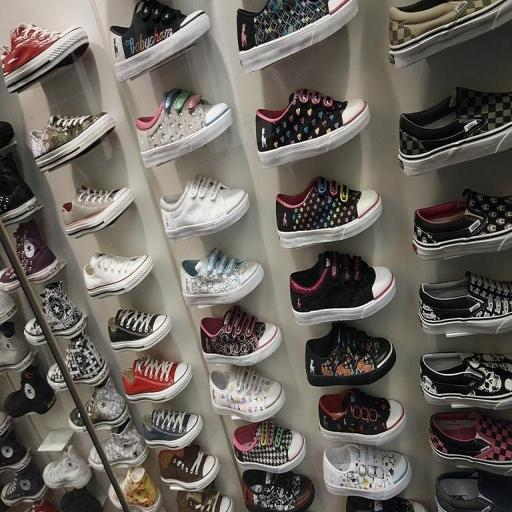shoe: (398, 87, 512, 175), (255, 89, 370, 167), (237, 0, 358, 72), (389, 0, 512, 68), (110, 0, 211, 81), (290, 251, 395, 325), (136, 89, 233, 168), (276, 177, 382, 248), (412, 189, 512, 260), (418, 272, 512, 337), (1, 23, 89, 92), (160, 176, 249, 241), (305, 323, 396, 386), (429, 410, 512, 476), (420, 353, 512, 410), (30, 112, 115, 172), (318, 389, 406, 446), (323, 444, 412, 500), (200, 306, 282, 366), (181, 249, 264, 306), (210, 365, 286, 422), (0, 219, 59, 292), (24, 281, 87, 345), (232, 420, 306, 473), (415, 472, 510, 512), (61, 186, 135, 237), (47, 331, 109, 391), (69, 377, 129, 432), (122, 356, 192, 402), (84, 253, 154, 298), (242, 470, 315, 512), (88, 420, 148, 471), (158, 444, 219, 491), (0, 153, 39, 224), (4, 366, 56, 418), (108, 309, 172, 351), (142, 409, 202, 449), (109, 466, 161, 512), (43, 446, 91, 489), (1, 463, 47, 507), (0, 321, 35, 373), (346, 496, 452, 512), (177, 484, 234, 512), (0, 430, 31, 471), (59, 487, 103, 512), (24, 498, 76, 512), (0, 291, 17, 324), (0, 121, 15, 149), (0, 410, 11, 440)
